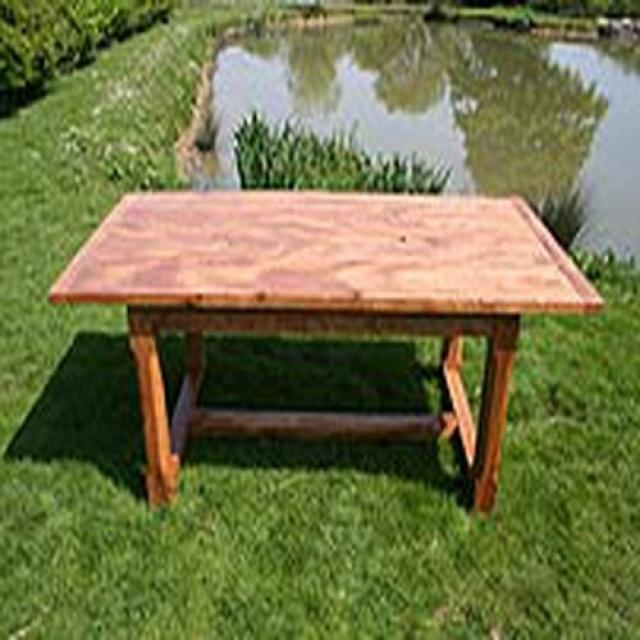table: (46, 189, 607, 517)
